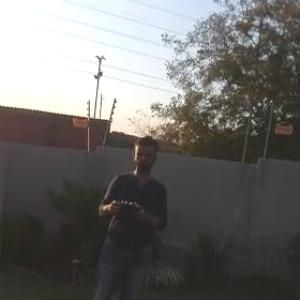follow: (87, 130, 178, 299)
